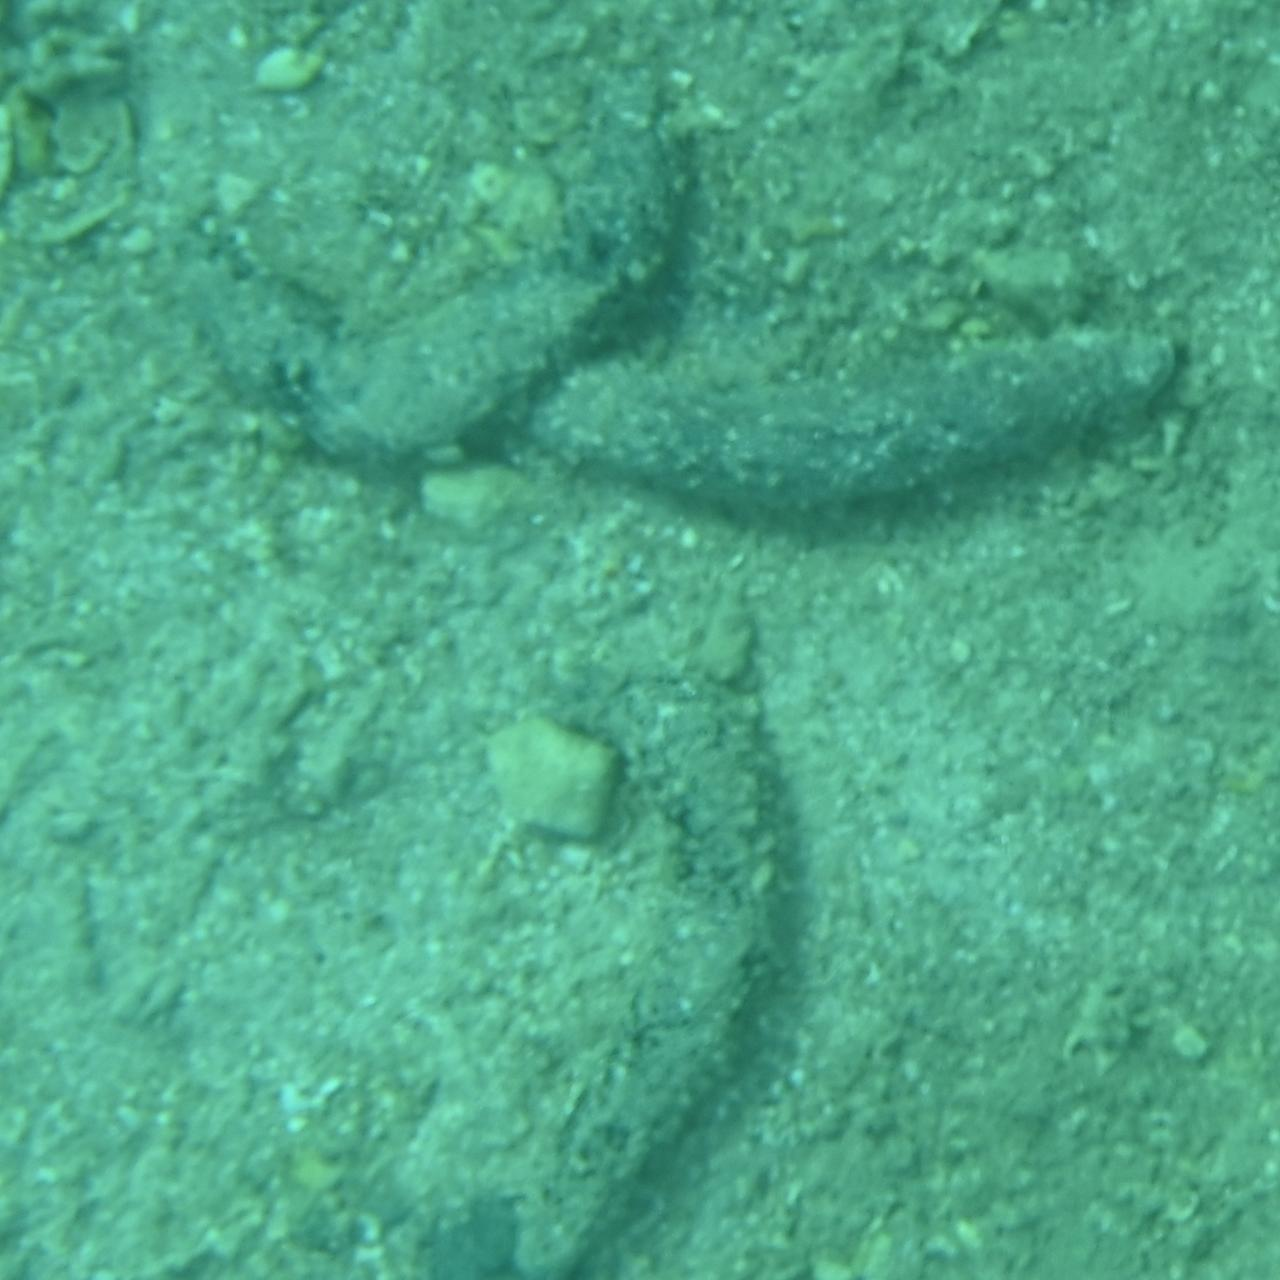Holothuria tubulosa: (175, 116, 689, 486), (518, 655, 810, 1280), (511, 327, 1185, 527)
